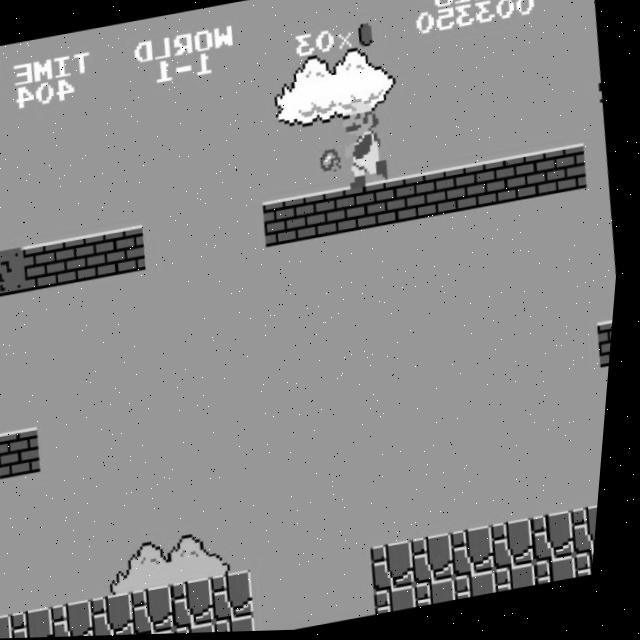1- brick_block: (542, 146, 594, 199), (382, 175, 434, 227), (342, 183, 394, 235), (1, 427, 52, 480), (503, 154, 554, 206), (463, 161, 514, 213), (422, 168, 473, 220), (303, 190, 354, 242), (263, 197, 314, 249), (103, 226, 154, 278), (63, 233, 114, 285), (23, 240, 74, 292), (600, 322, 618, 371)
13- mystery_block: (0, 247, 35, 299)
17- undestructible_block: (496, 520, 548, 574), (536, 514, 588, 567), (177, 578, 229, 631), (457, 528, 508, 581), (417, 535, 468, 588), (377, 542, 428, 595), (217, 571, 268, 624), (137, 585, 188, 636), (98, 593, 149, 637), (58, 600, 108, 638), (19, 606, 69, 639), (576, 506, 607, 559), (542, 558, 588, 588), (423, 580, 469, 610), (383, 587, 429, 617), (503, 566, 548, 596), (463, 573, 508, 603), (224, 616, 269, 634), (2, 613, 29, 639), (582, 552, 604, 582), (184, 623, 229, 635)
4- fire_mario: (337, 91, 400, 192)
5- fireball: (321, 148, 347, 177)
